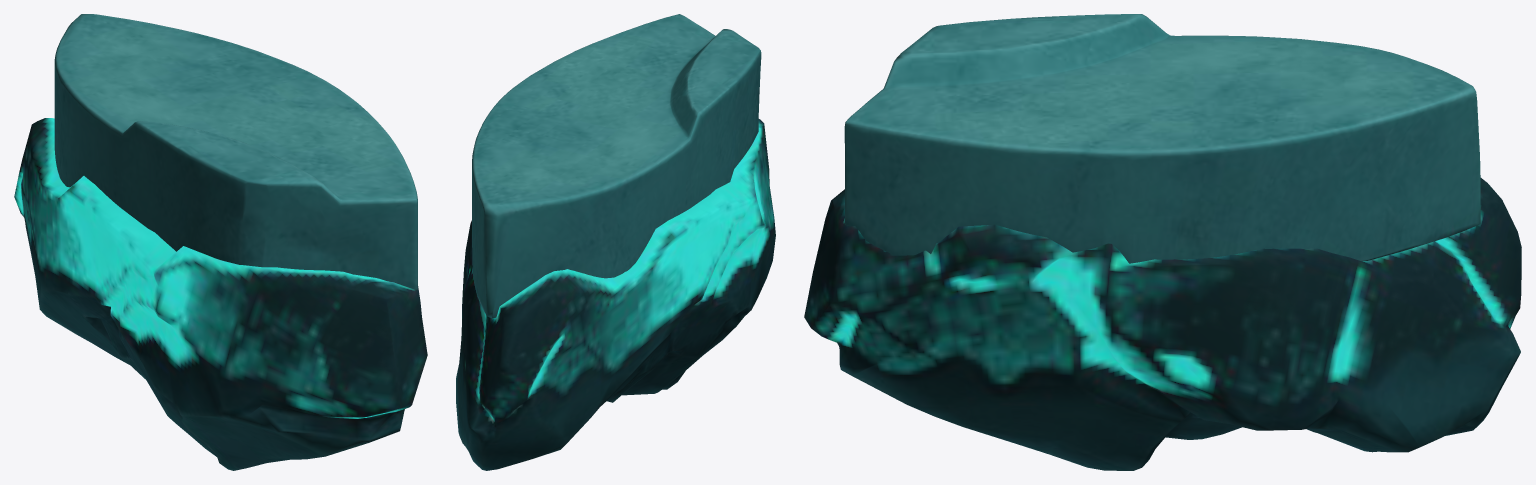
File: sky_rock_02a3_soma.glb
The picture shows the model from 3 angles, left to right: view 1: azimuth 30°, elevation 25°; view 2: azimuth 150°, elevation 25°; view 3: azimuth 270°, elevation 25°; orthographic projection. The views are drawn at different scales.
Parts seen in each view (by area): view 1: rock_02a3; view 2: rock_02a3; view 3: rock_02a3.
Boxes of the visible parts, x1,y1,x2,y2 form: rock_02a3: [14, 14, 427, 470]; rock_02a3: [456, 14, 775, 470]; rock_02a3: [804, 14, 1521, 470].
Bounding box in the file's own units: 13.93 × 19.24 × 31.51.
Materials: 1 (1 with a texture image).
